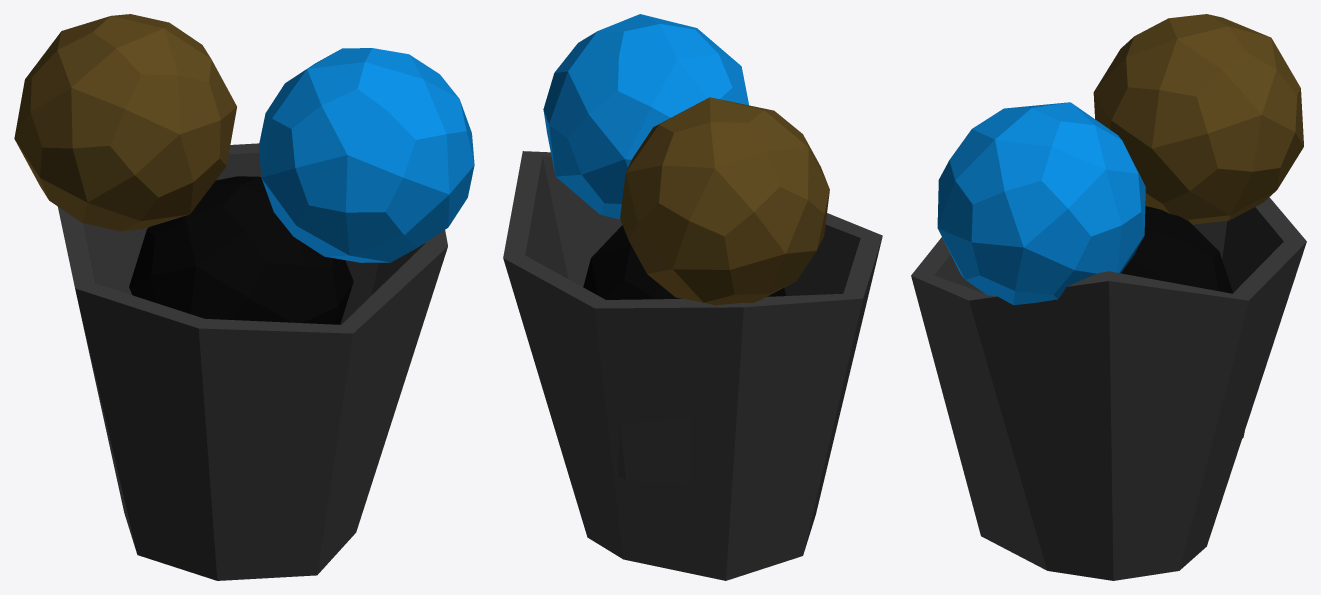
Rendered from SM_box_balls.fbx.
3 views of the same model, side by side, from view 1: azimuth 30°, elevation 25°; view 2: azimuth 150°, elevation 25°; view 3: azimuth 270°, elevation 25° (orthographic). The views are drawn at different scales.
Parts seen in each view (by area): view 1: Caja_balones, Balon3, Balon1, Balon2; view 2: Caja_balones, Balon3, Balon1, Balon2; view 3: Caja_balones, Balon1, Balon3, Balon2.
Part boxes in pixels (<box>): Caja_balones: <box>57,143,447,580</box>; Balon3: <box>14,14,236,231</box>; Balon1: <box>259,48,474,262</box>; Balon2: <box>129,176,353,324</box>; Caja_balones: <box>503,151,882,580</box>; Balon3: <box>620,97,829,305</box>; Balon1: <box>543,14,748,219</box>; Balon2: <box>583,225,786,299</box>; Caja_balones: <box>911,197,1306,580</box>; Balon1: <box>937,102,1145,305</box>; Balon3: <box>1093,14,1303,224</box>; Balon2: <box>1121,206,1232,293</box>.
Bounding box in the file's own units: 0.5947 × 0.7823 × 0.5943.
